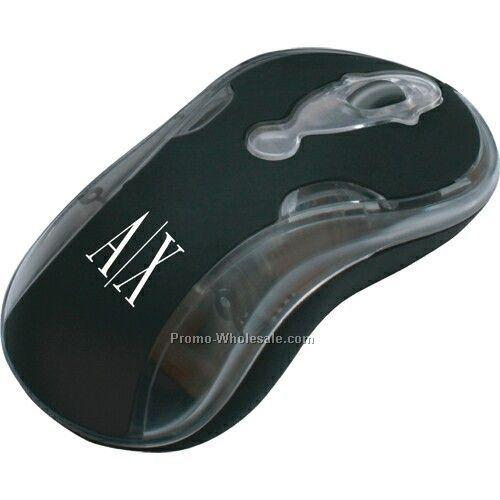computer mouse: (0, 48, 500, 455)
